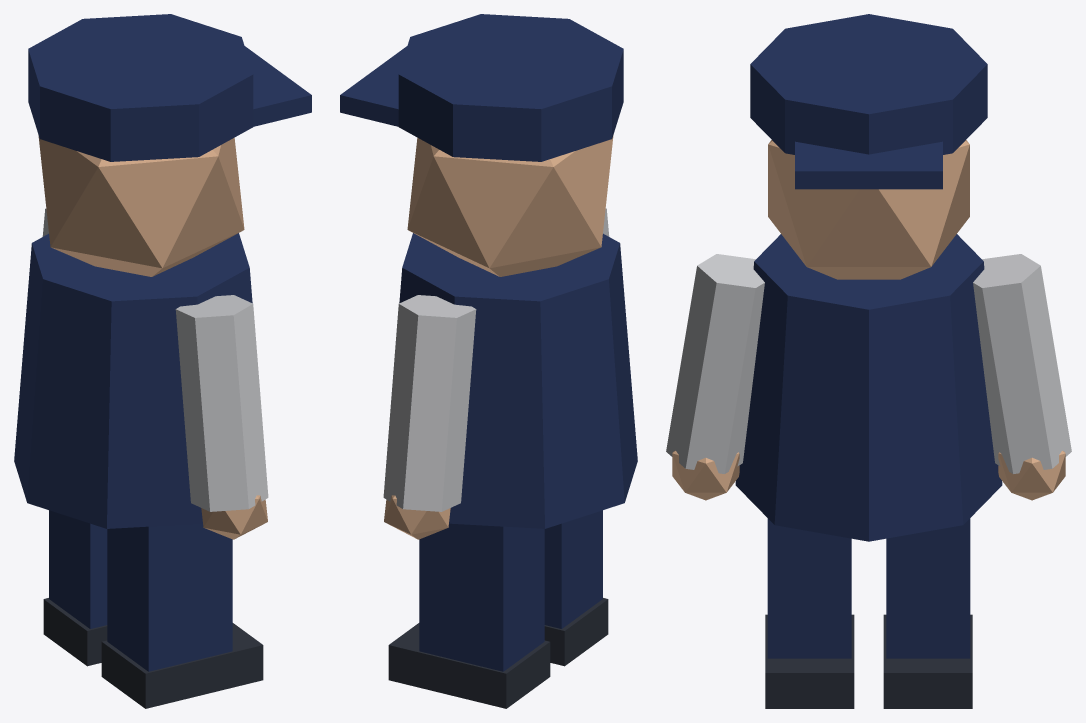
The model's file is customs_officer.glb.
3 renders of one model, left to right at view 1: azimuth 30°, elevation 25°; view 2: azimuth 150°, elevation 25°; view 3: azimuth 270°, elevation 25°, orthographic.
Parts seen in each view (by area): view 1: customs_officer; view 2: customs_officer; view 3: customs_officer.
Boxes of the visible parts, bbox=[...] form: customs_officer: bbox=[14, 14, 311, 708]; customs_officer: bbox=[340, 14, 637, 708]; customs_officer: bbox=[666, 14, 1071, 708].
Bounding box in the file's own units: 0.59 × 1.36 × 0.821.
